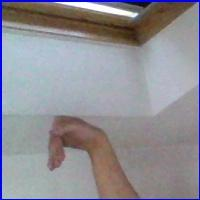del: (44, 112, 109, 175)
